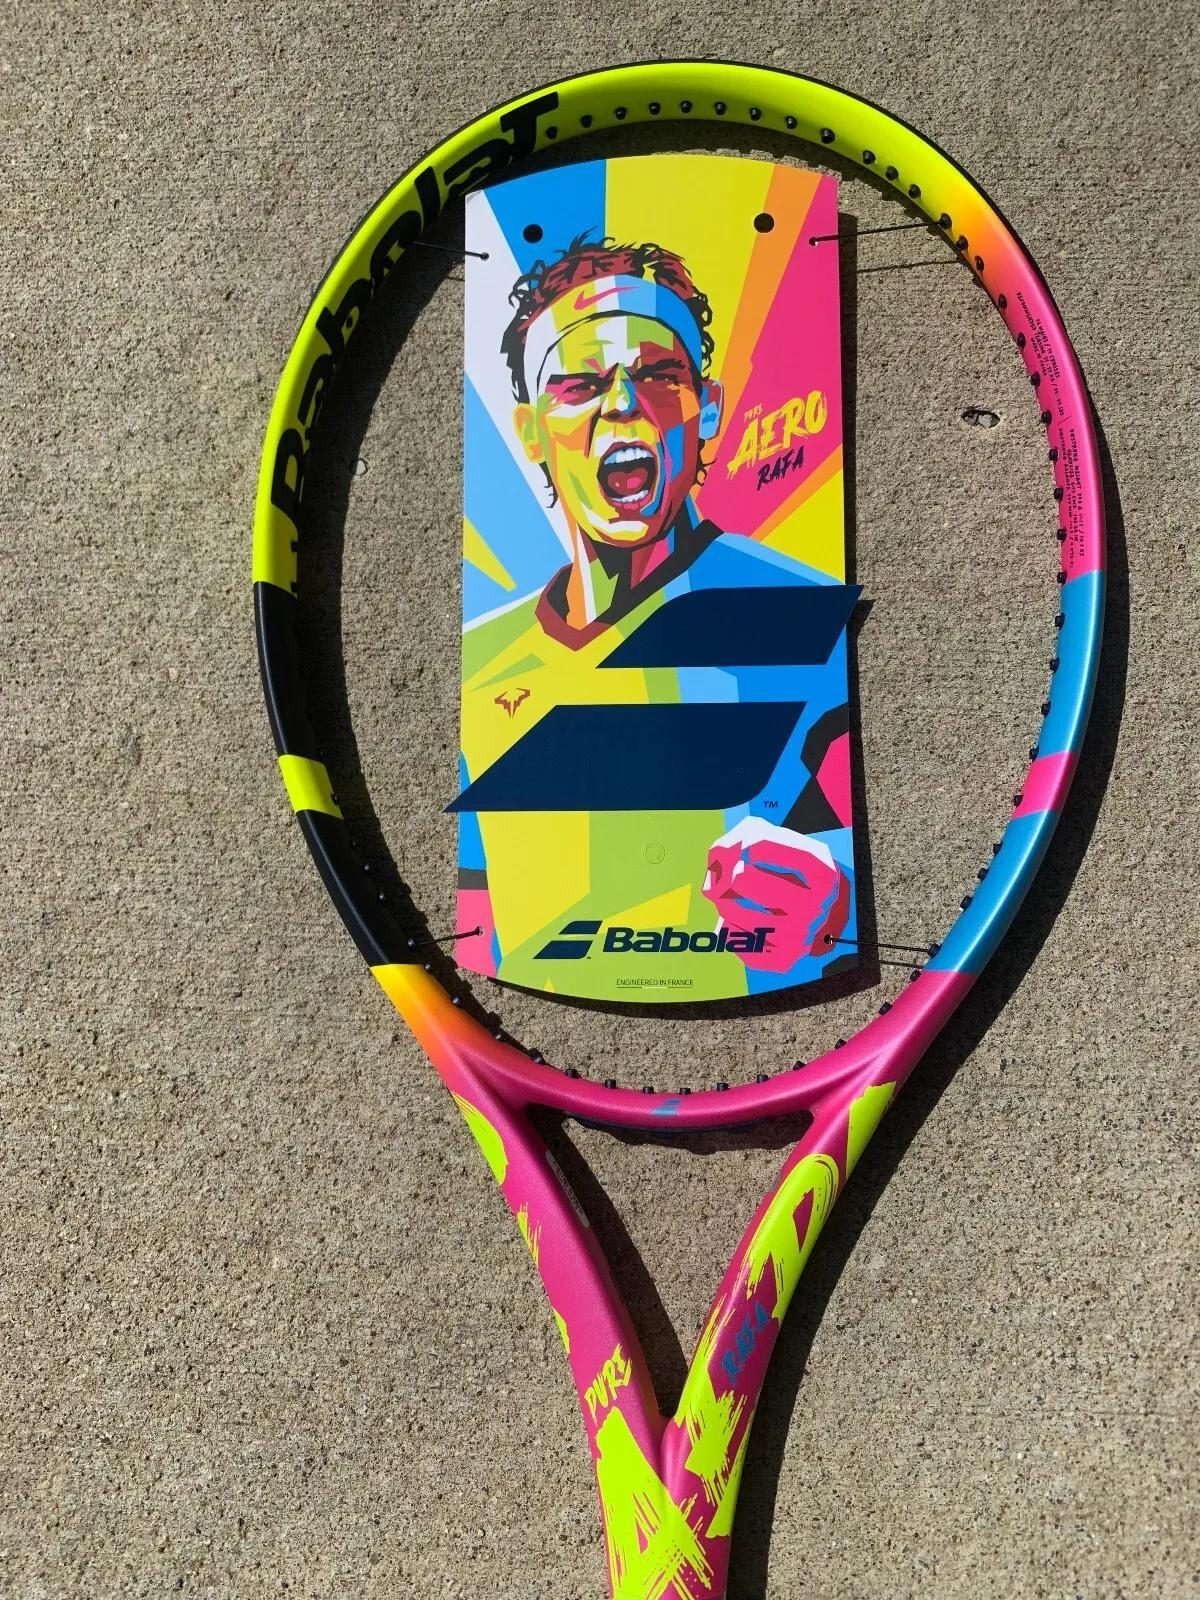Tennis-Racket: (253, 63, 1105, 1599)
